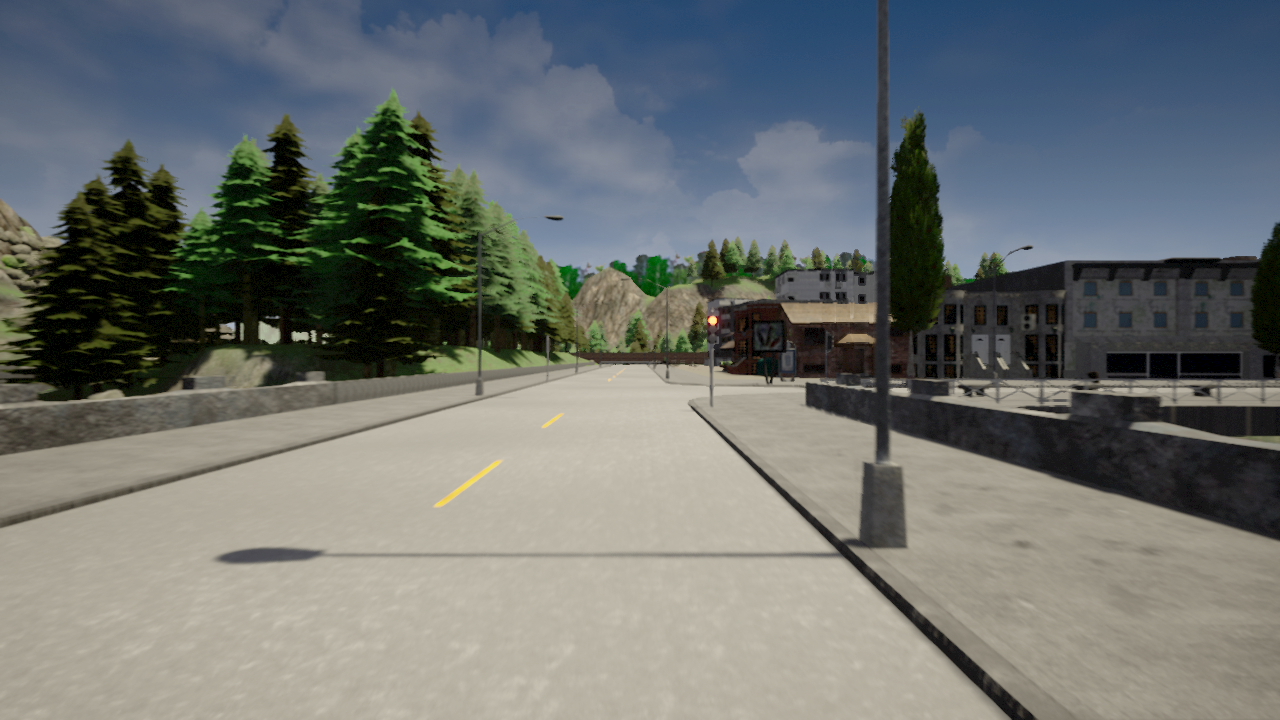red: (705, 314, 717, 345)
